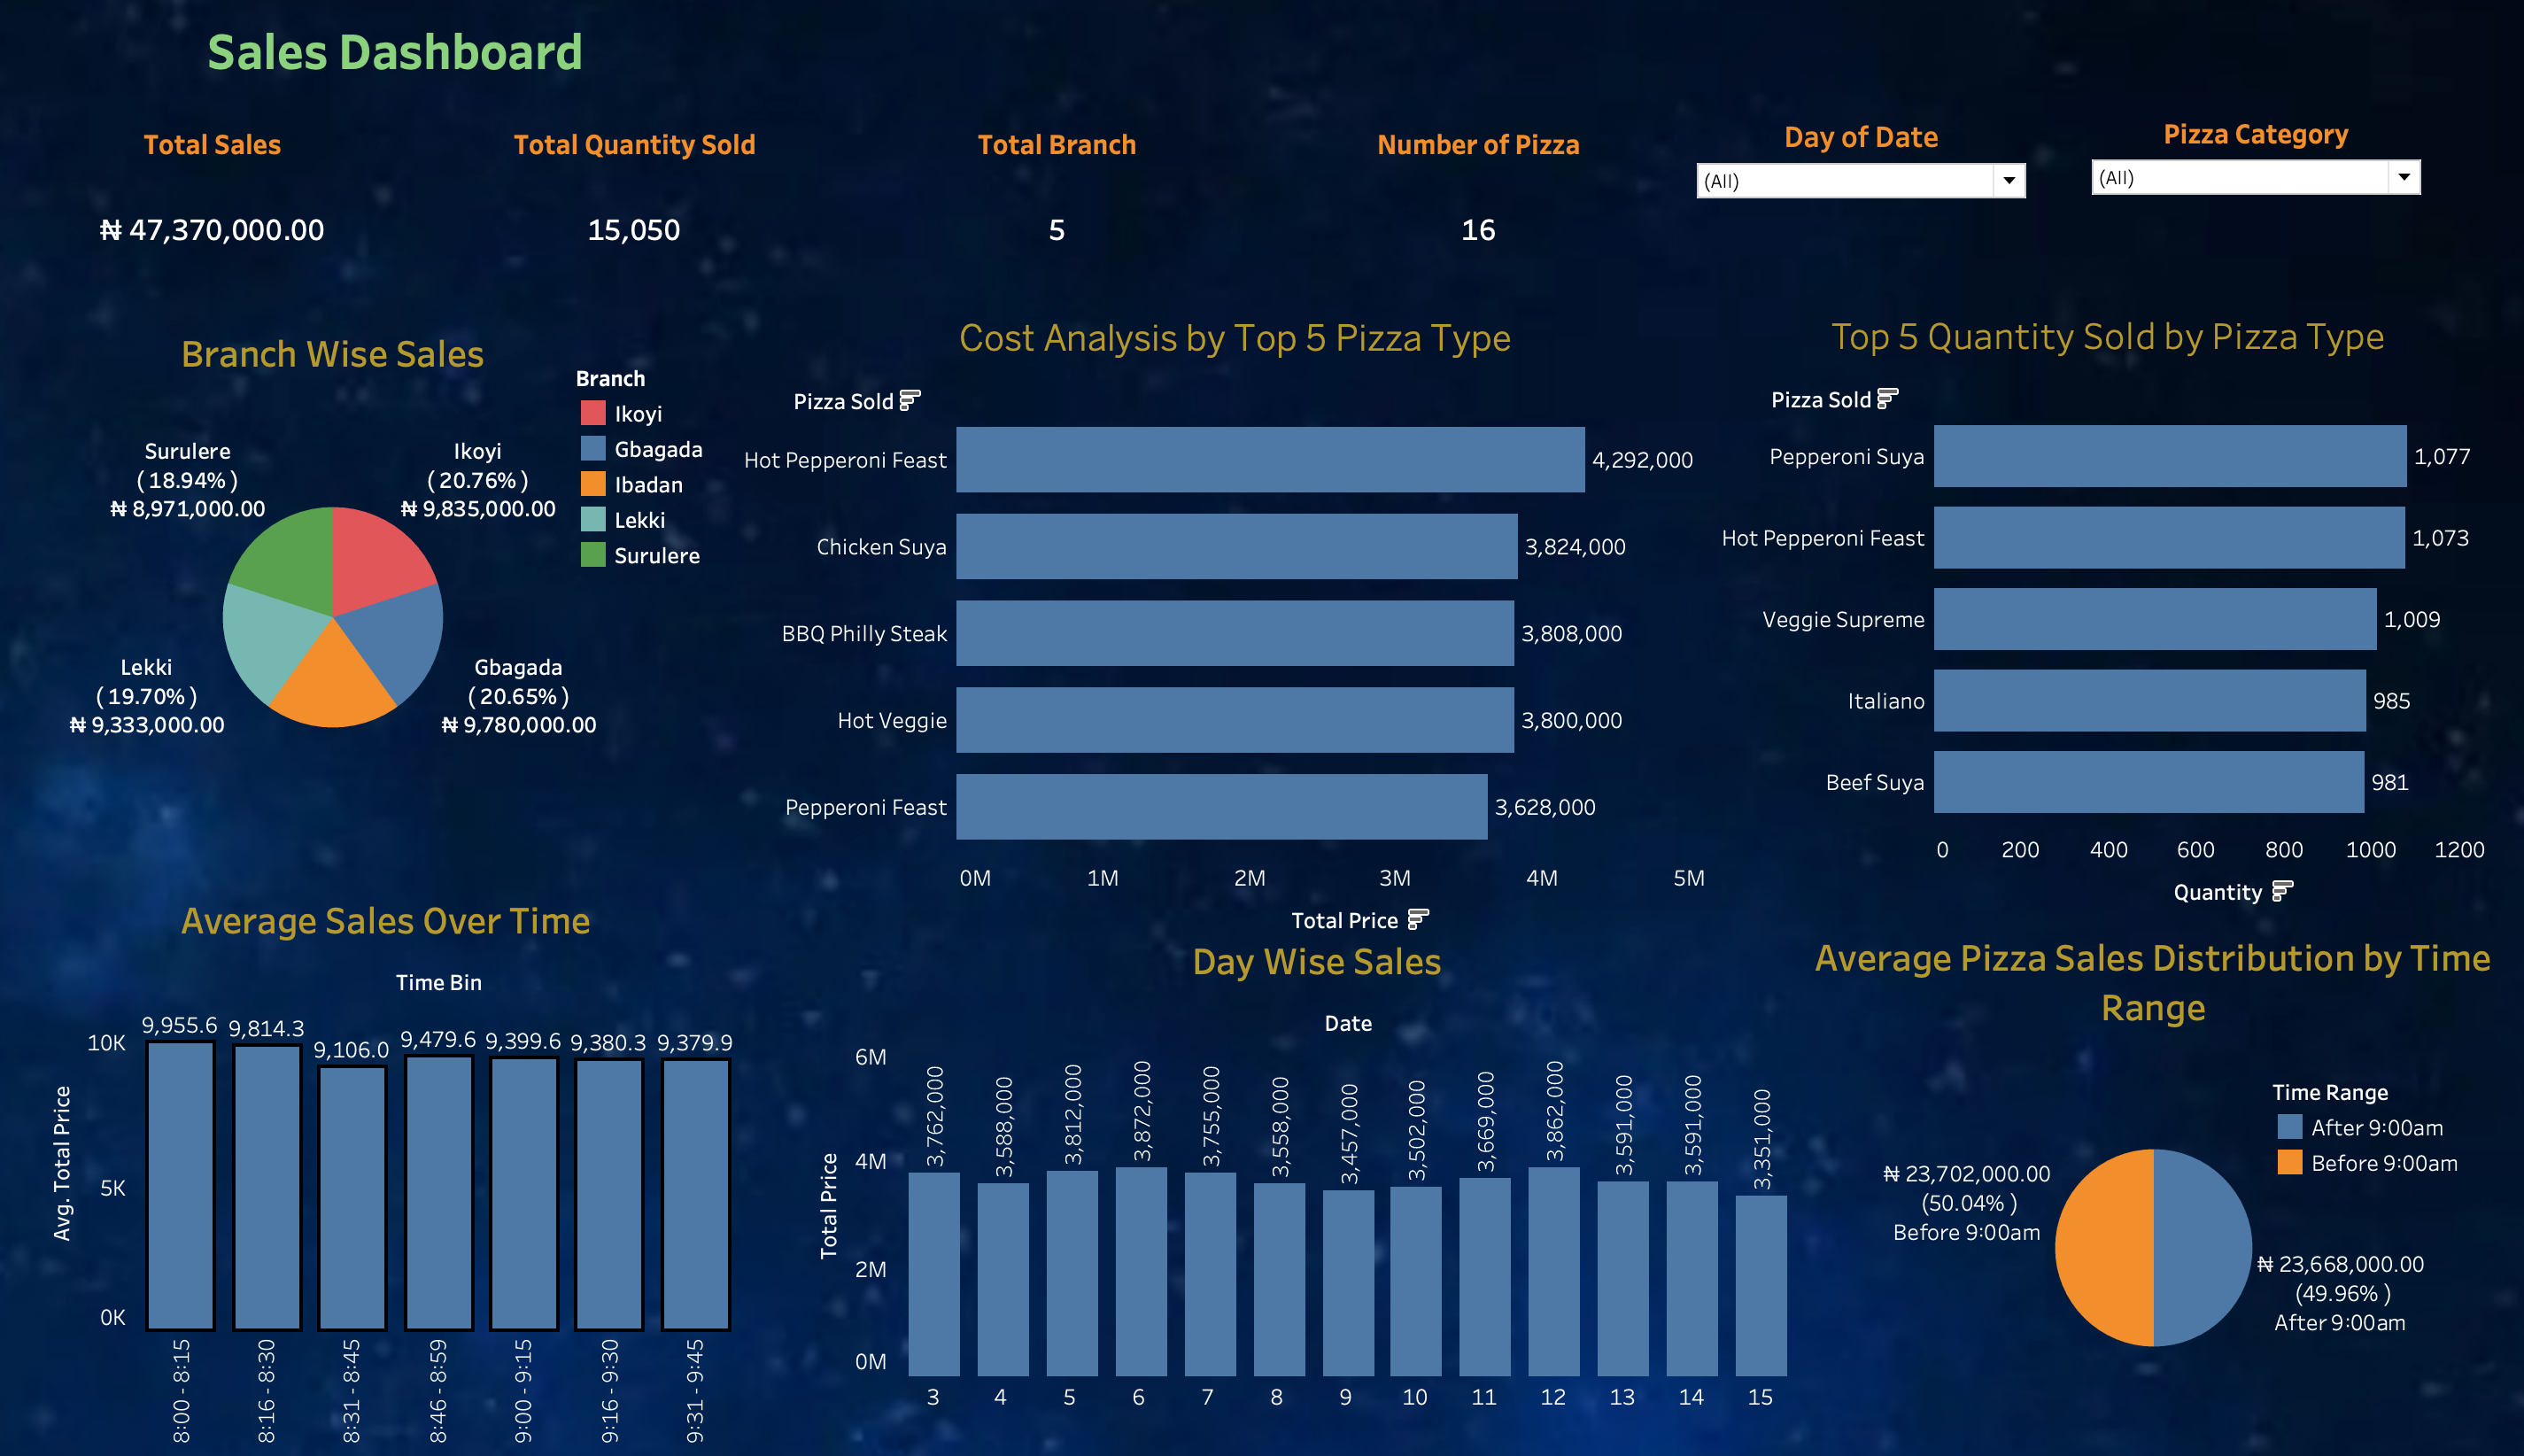

The dashboard page shown, as its layout file describes it:
{"tool":"tableau","page":{"name":"Dashboard 1","canvas":[1000,1000],"units":"permille","ordinal":0},"visuals":[{"type":"image","param":"Image/tablueBG.png","box":[1.6,3.2,996.8,998.4]},{"type":"text","box":[5.7,11.6,988.7,50.8]},{"type":"text","box":[81.3,17.5,206.6,47.6]},{"type":"text","box":[5.7,62.4,988.7,52]},{"type":"filter","title":"Cost Analysis by Pizza Type","param":"[federated.000s3e518pabm916xny6t0yb6j3w].[none:Pizza Sold:nk]","box":[823.3,85.7,133.3,96.8]},{"type":"filter","title":"Day Wise Sales","param":"[federated.000s3e518pabm916xny6t0yb6j3w].[dy:Date:ok]","box":[669.1,87.3,133.3,95.2]},{"type":"worksheet","title":"Sales","mark":"Automatic","box":[6.4,90.5,661.9,115.9]},{"type":"worksheet","title":"Quantity Sold by Pizza Type","mark":"Automatic","rows":["Pizza Sold"],"cols":["Quantity"],"box":[678,212.7,308.7,419.1]},{"type":"worksheet","title":"Cost Analysis by Pizza Type","mark":"Automatic","rows":["Pizza Sold"],"cols":["Total Price"],"box":[294.6,217.5,390.9,434.9]},{"type":"worksheet","title":"Branch Wise Sales","mark":"Pie","box":[1.7,225.4,269.7,352.4]},{"type":"legend","title":"Branch Wise Sales","param":"[federated.000s3e518pabm916xny6t0yb6j3w].[none:Branch:nk]","box":[231.5,254,86.3,196.8]},{"type":"worksheet","title":"Average Sales Over Time","mark":"Automatic","rows":["Total Price"],"cols":["Calculation_5391723591141490689"],"box":[19.1,611.1,281.3,379.4]},{"type":"worksheet","title":"Pizza Sales Distribution by Time Range","mark":"Pie","box":[707.9,636.5,284.7,354]},{"type":"worksheet","title":"Day Wise Sales","mark":"Bar","rows":["Total Price"],"cols":["Date"],"box":[319.5,638.1,390,330.2]},{"type":"legend","title":"Pizza Sales Distribution by Time Range","param":"[federated.000s3e518pabm916xny6t0yb6j3w].[none:Time Range:nk]","box":[896.3,739.7,89.6,92.1]}]}

Visuals, with their boxes on the dashboard's canvas, which has no fixed pixel size, in thousandths of its width and height (x1, y1, x2, y2). These are canvas units, not pixel positions in the 2524x1456 screenshot, which may show the page scaled, cropped or inside an application window:
image: region(2, 3, 998, 1002)
text: region(6, 12, 994, 62)
text: region(81, 18, 288, 65)
text: region(6, 62, 994, 114)
"Cost Analysis by Pizza Type" filter: region(823, 86, 957, 182)
"Day Wise Sales" filter: region(669, 87, 802, 182)
"Sales" worksheet: region(6, 90, 668, 206)
"Quantity Sold by Pizza Type" worksheet: region(678, 213, 987, 632)
"Cost Analysis by Pizza Type" worksheet: region(295, 218, 686, 652)
"Branch Wise Sales" worksheet (Pie marks): region(2, 225, 271, 578)
"Branch Wise Sales" legend: region(232, 254, 318, 451)
"Average Sales Over Time" worksheet: region(19, 611, 300, 990)
"Pizza Sales Distribution by Time Range" worksheet (Pie marks): region(708, 636, 993, 990)
"Day Wise Sales" worksheet (Bar marks): region(320, 638, 710, 968)
"Pizza Sales Distribution by Time Range" legend: region(896, 740, 986, 832)
